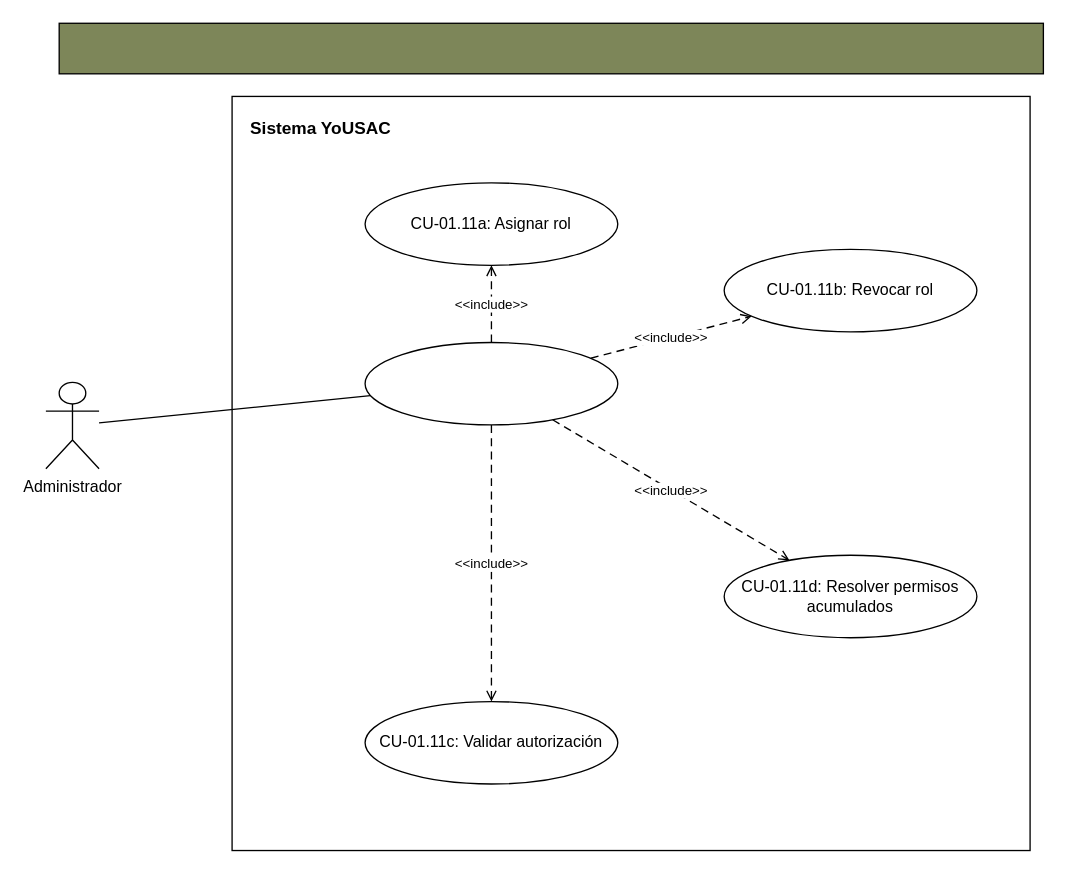
This 1067x874 diagram has some shape labels left out. Here are the shapes that lost their labels. From the top down, the box of each, then its label:
(58, 22, 1043, 74): Plataforma YoUSAC — CU-01.11 — Gestionar roles y permisos
(364, 341, 618, 425): CU-01.11: Gestionar roles y permisos
